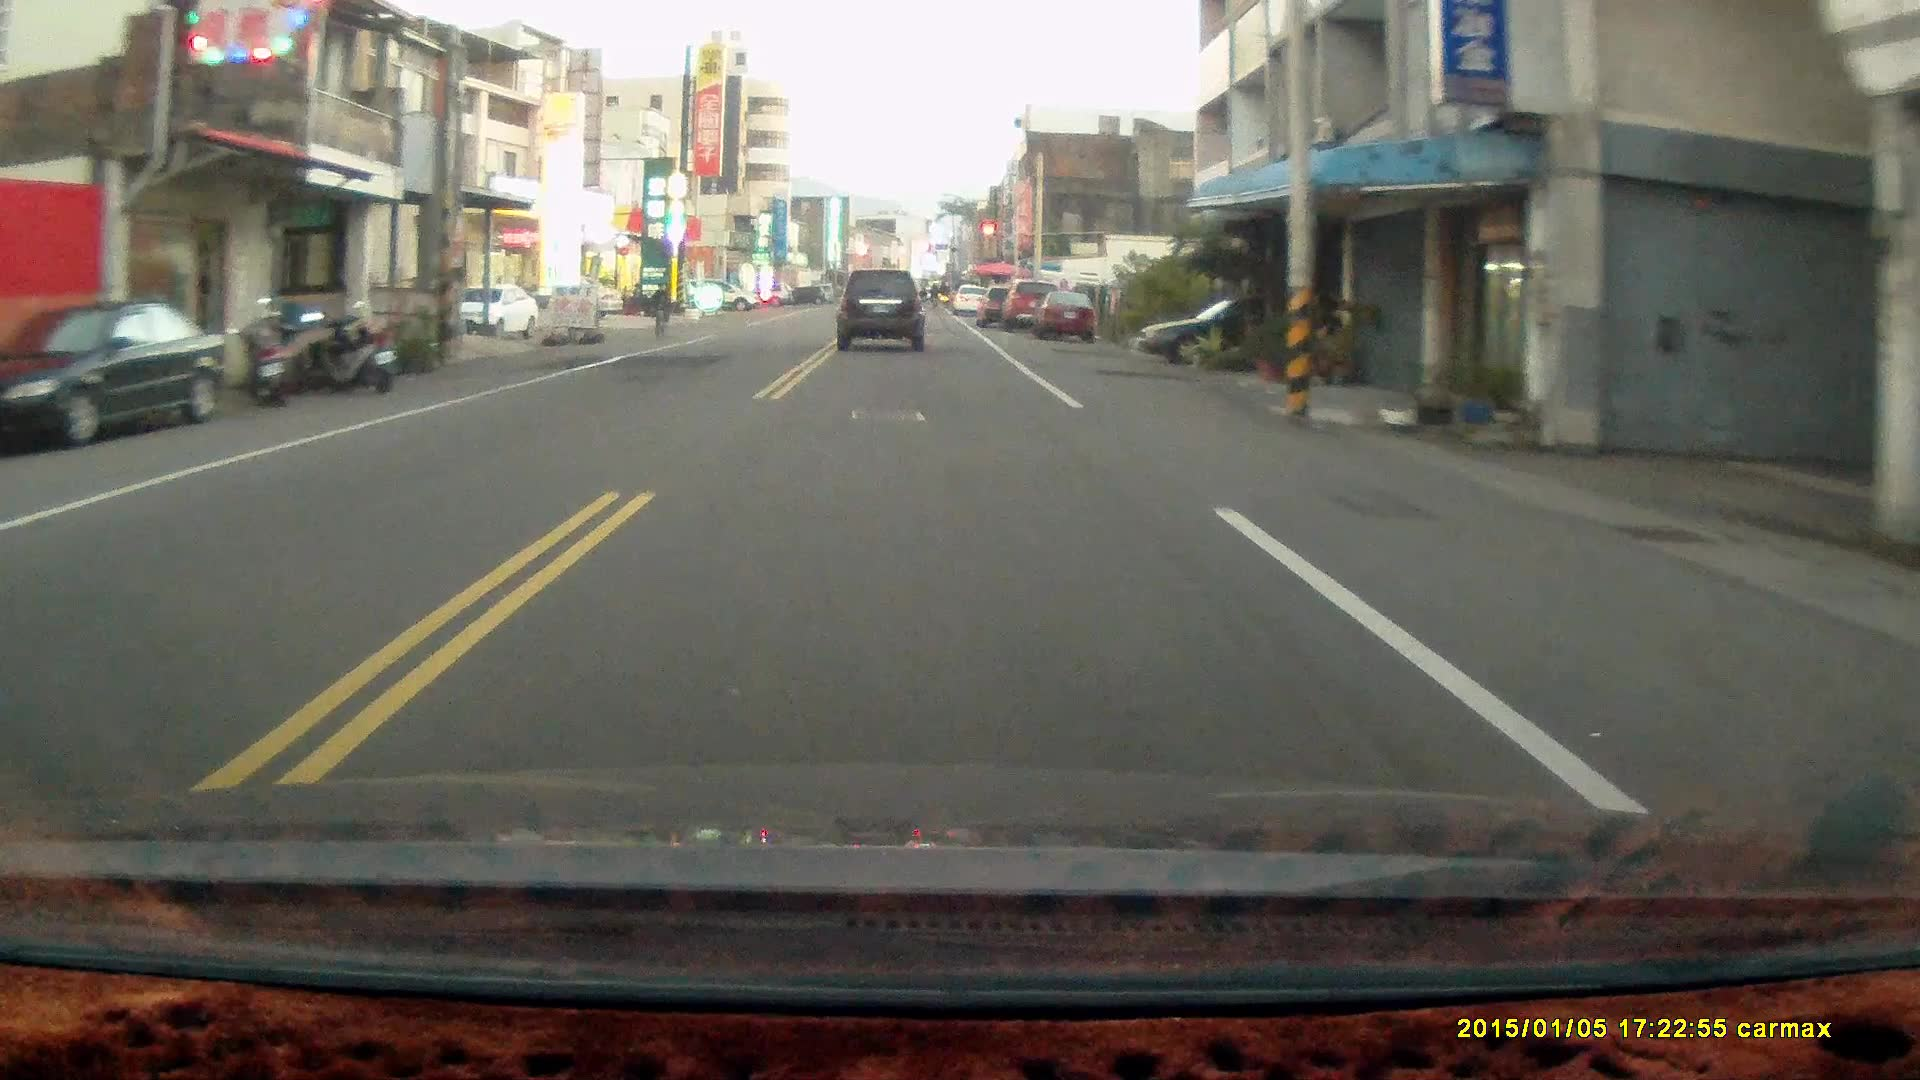rider: (646, 280, 671, 345)
vehicle: (1, 301, 239, 450), (1132, 300, 1324, 366), (836, 267, 928, 355), (448, 285, 541, 341), (1031, 289, 1097, 341)
